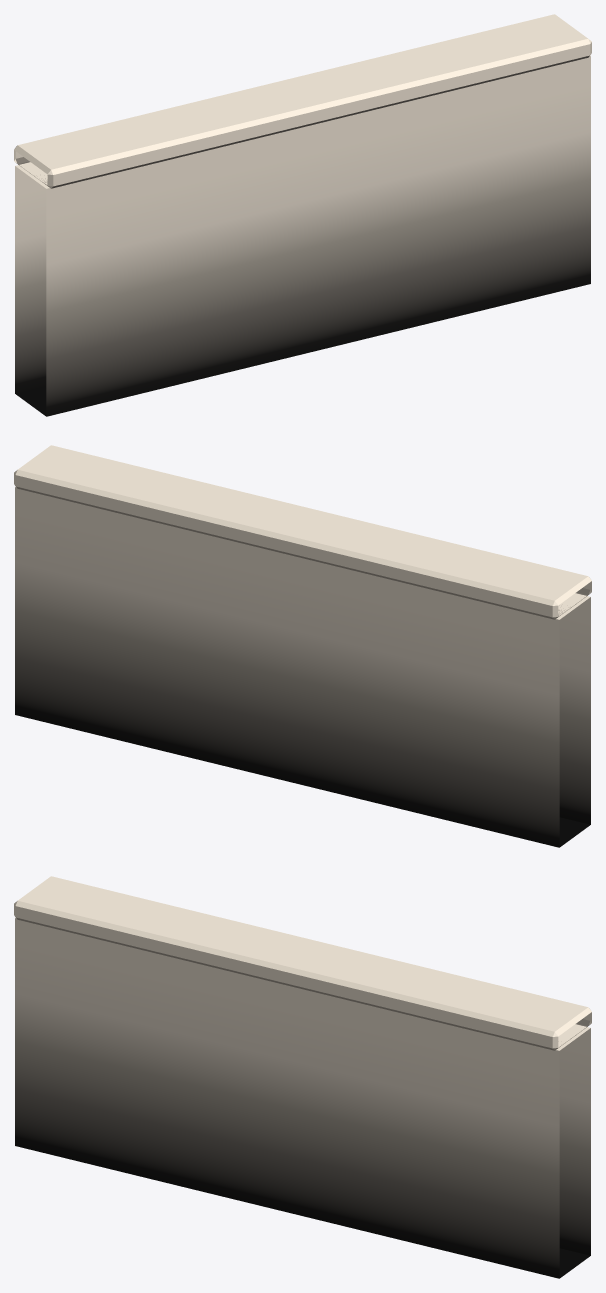
Rendered from SM_VKI_Wall_Board_Plain_300_Cut.fbx.
3 renders of one model, top to bottom at view 1: azimuth 30°, elevation 25°; view 2: azimuth 150°, elevation 25°; view 3: azimuth 330°, elevation 25°, orthographic.
Visible parts, largest first — view 1: SM_VKI_Wall_Board_Plain_300_Cut.001; view 2: SM_VKI_Wall_Board_Plain_300_Cut.001; view 3: SM_VKI_Wall_Board_Plain_300_Cut.001.
Boxes of the visible parts, bbox=[...] form: SM_VKI_Wall_Board_Plain_300_Cut.001: bbox=[14, 14, 591, 416]; SM_VKI_Wall_Board_Plain_300_Cut.001: bbox=[14, 445, 591, 847]; SM_VKI_Wall_Board_Plain_300_Cut.001: bbox=[14, 876, 591, 1278].
Size of the model in its own units: 3 by 1.3 by 0.36.
